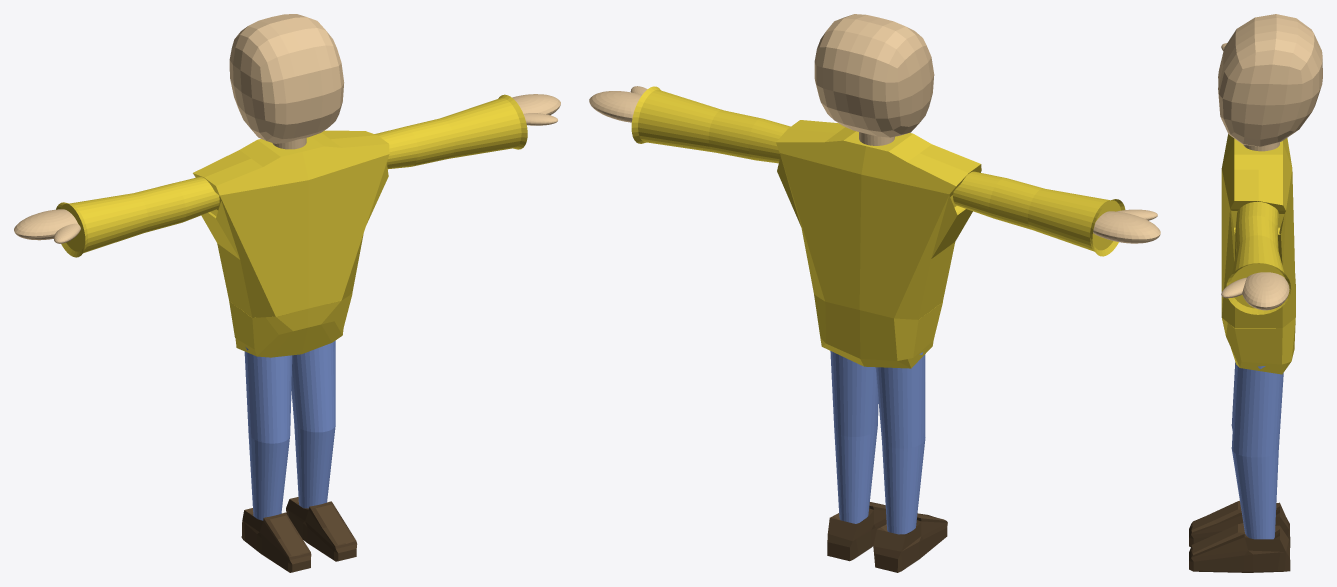
Rendered from La Trombonette_Character.fbx.
The picture shows the model from 3 angles, left to right: view 1: azimuth 30°, elevation 25°; view 2: azimuth 150°, elevation 25°; view 3: azimuth 270°, elevation 25°; orthographic projection. The views are drawn at different scales.
Visible parts, largest first — view 1: Torse, Jambe, Head, Sphere; view 2: Torse, Jambe, Head, Sphere; view 3: Torse, Jambe, Head, Sphere, Cou.
Boxes of the visible parts, <box> form: Torse: <box>56,94,527,357</box>; Jambe: <box>241,340,357,572</box>; Head: <box>229,14,344,143</box>; Sphere: <box>14,94,560,243</box>; Torse: <box>631,86,1125,368</box>; Jambe: <box>827,351,947,572</box>; Head: <box>814,14,934,137</box>; Sphere: <box>589,86,1160,243</box>; Torse: <box>1221,134,1295,374</box>; Jambe: <box>1189,362,1290,572</box>; Head: <box>1218,14,1322,146</box>; Sphere: <box>1221,43,1289,310</box>; Cou: <box>1243,142,1279,151</box>.
Size of the model in its own units: 1212 by 1097 by 251.
